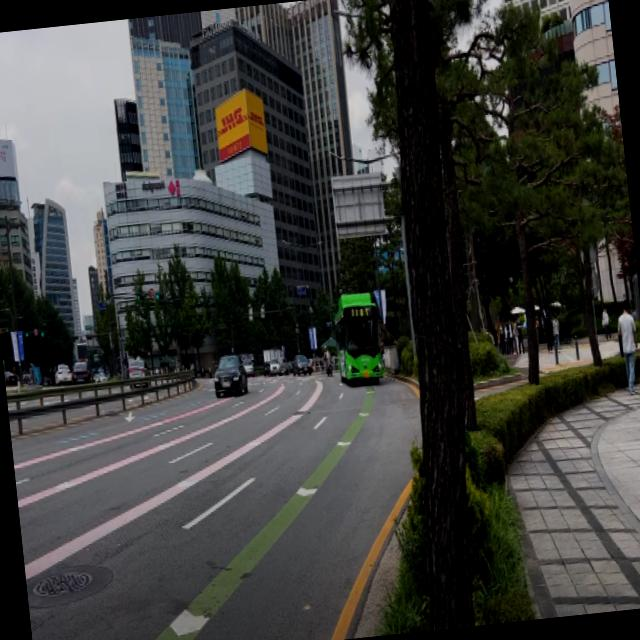bus-number: (350, 306, 370, 318)
